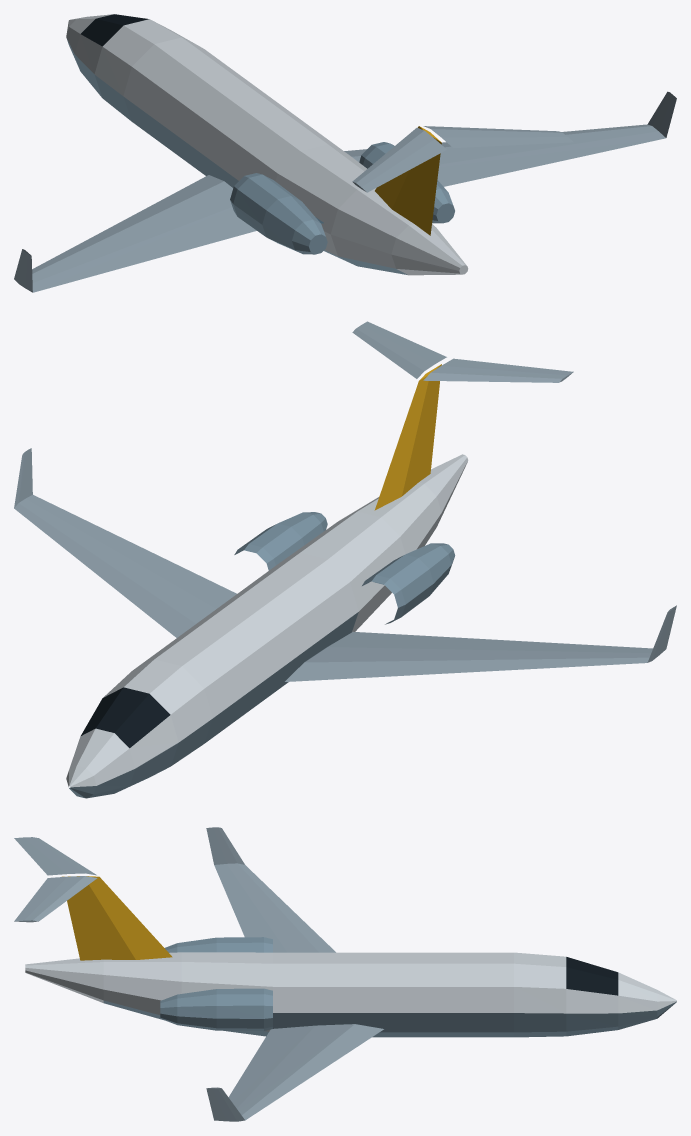
The picture shows the model from 3 angles, top to bottom: view 1: azimuth 30°, elevation 25°; view 2: azimuth 150°, elevation 25°; view 3: azimuth 270°, elevation 25°; orthographic projection. The views are drawn at different scales.
Visible parts, largest first — view 1: lod0; view 2: lod0; view 3: lod0.
Part boxes in pixels (left/top/right/bottom): lod0: left=14, top=14, right=676, bottom=292; lod0: left=14, top=321, right=676, bottom=798; lod0: left=14, top=827, right=676, bottom=1121.
Size of what is drawn, in the model's own units: 0.9288 by 0.2615 by 1.
